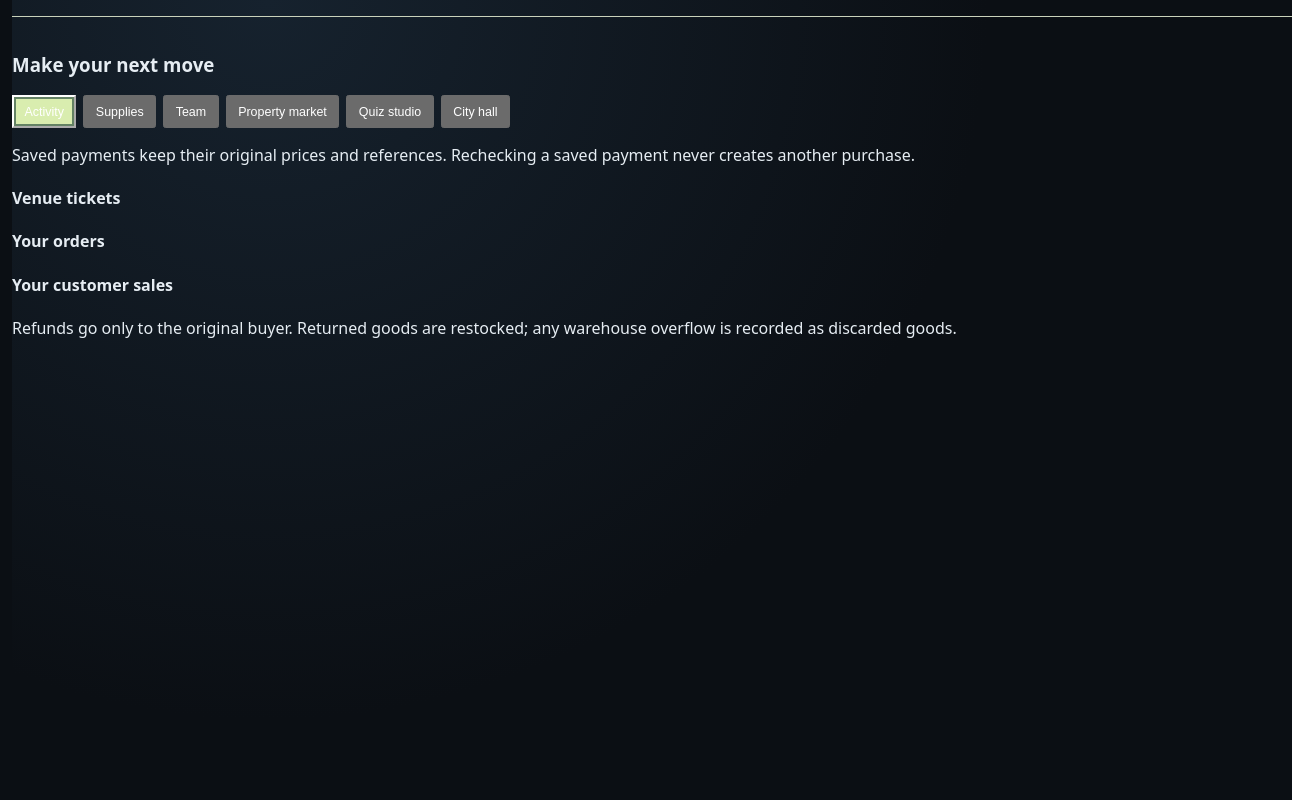
Test case: presents exact large balances and customer metrics without numeric rounding
Click the button "City hall" at [475, 112], box x1=441 y1=95 x2=510 y2=128
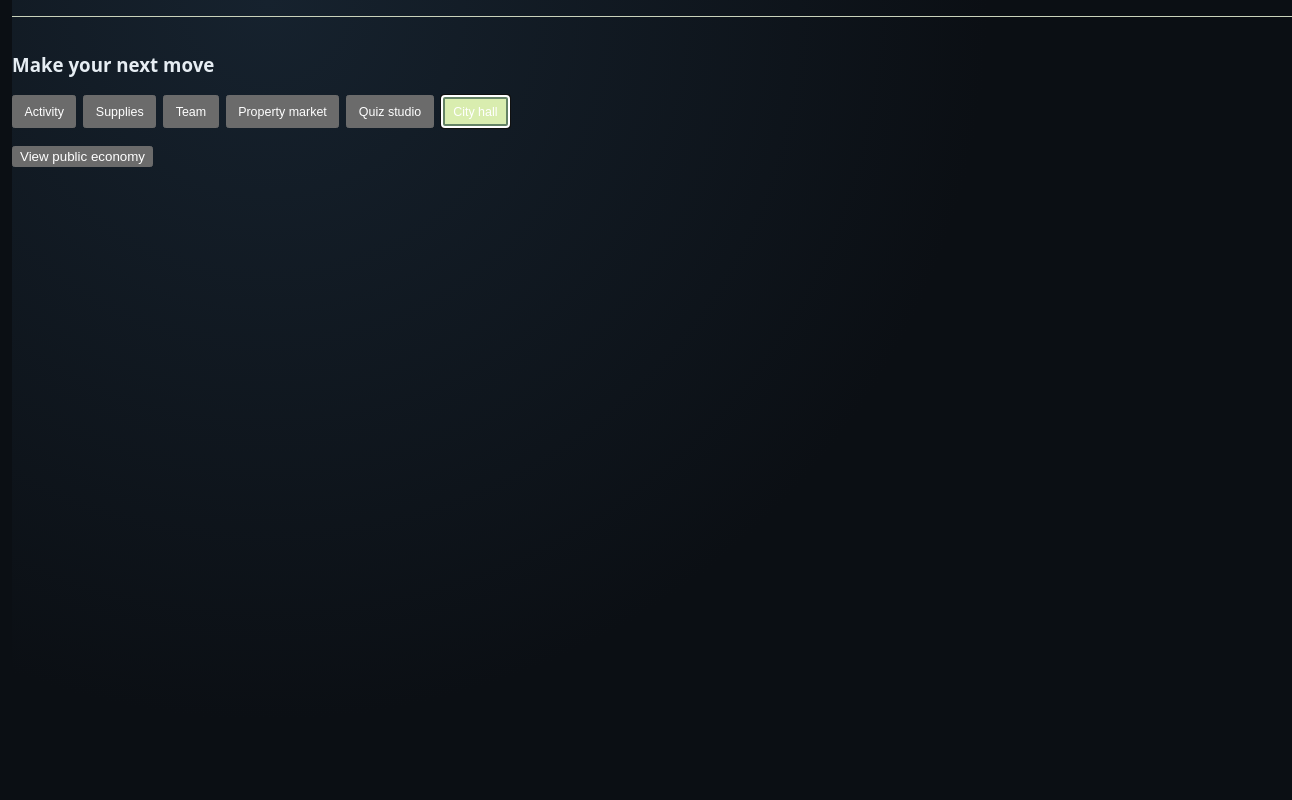
Click the button "View public economy" at [82, 156], box x1=12 y1=146 x2=153 y2=167
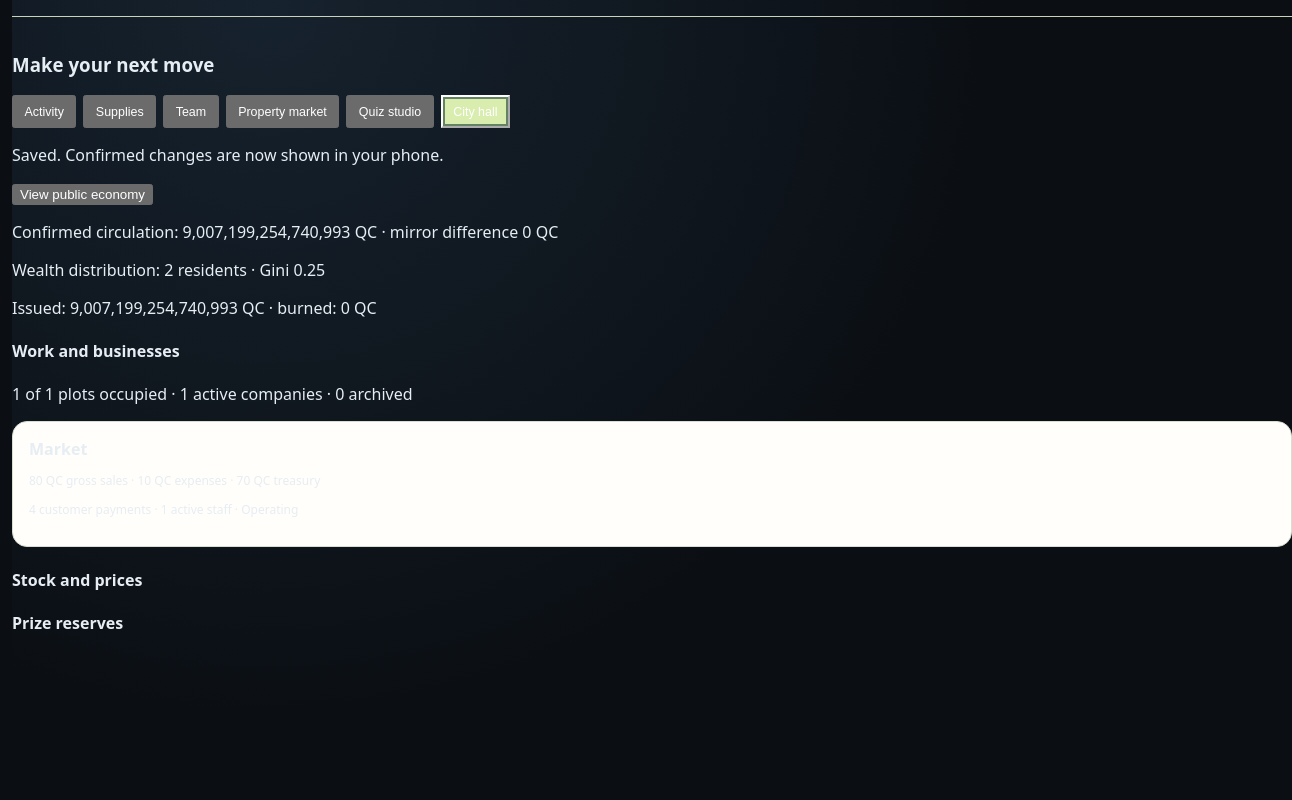
Now the text "Confirmed circulation: 9,007,199,254,740,993" is shown, box x1=12 y1=221 x2=558 y2=243
Now the text "4 customer payments · 1 active staff · Operating" is shown, box x1=29 y1=501 x2=298 y2=518
